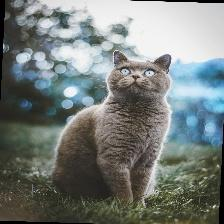kedo: (53, 50, 171, 209)
